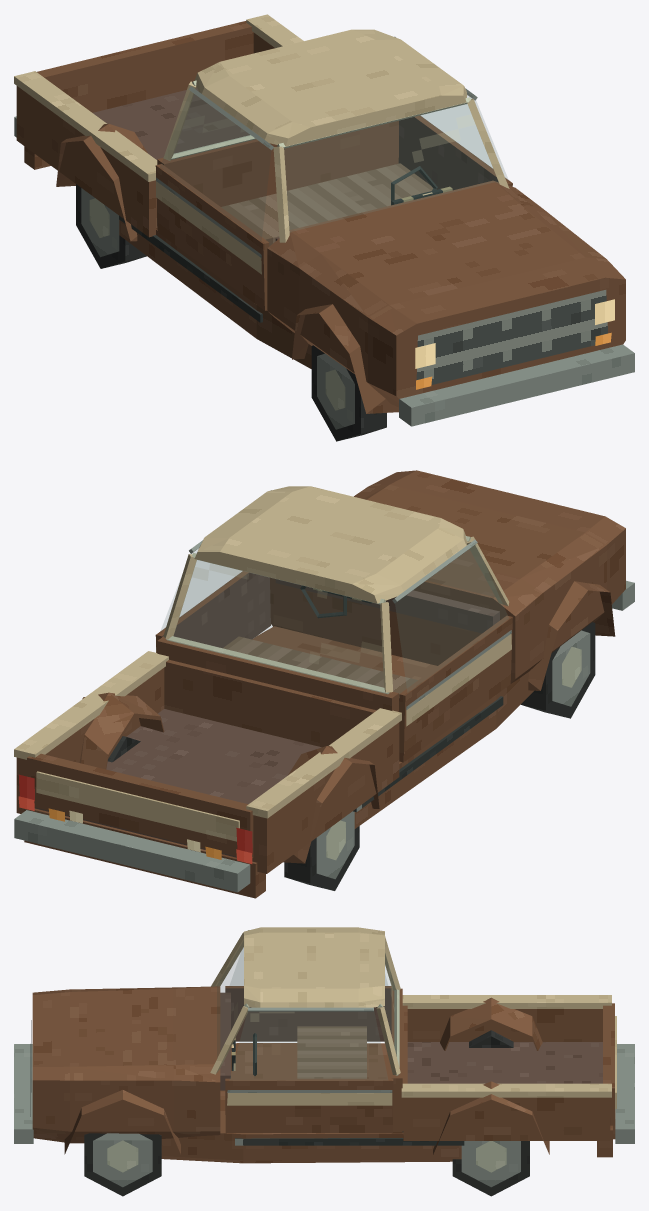
The model's file is tallmere-1972-mid.glb.
The picture shows the model from 3 angles, top to bottom: view 1: azimuth 30°, elevation 25°; view 2: azimuth 150°, elevation 25°; view 3: azimuth 270°, elevation 25°; orthographic projection. The views are drawn at different scales.
Parts seen in each view (by area): view 1: body, Hood opening panel, Pressed tailgate, Hinged side glass.001, Shaped hinged outer door.001, Padded inside door panel, Chrome-capped two-tone insert.002, Distance tyre.001, Distance hubcap.002, Hinged side glass, Distance hubcap.006, Distance tyre.003 (+3 smaller); view 2: body, Hood opening panel, Hinged side glass.001, Pressed tailgate, Shaped hinged outer door.001, Embossed tailgate stripe, Padded inside door panel, Chrome-capped two-tone insert.002, Distance tyre.001, Distance hubcap.002, Distance tyre.003, Distance hubcap.006 (+4 smaller); view 3: body, Hood opening panel, Hinged side glass, Shaped hinged outer door, Padded inside door panel.001, Chrome-capped two-tone insert, Distance hubcap, Distance hubcap.004, Distance tyre, Pressed tailgate, Distance tyre.002, Distance hubcap.001 (+5 smaller).
Part boxes in pixels (box(x1,y1,x2,y2)): body: box(14, 14, 634, 426); Hood opening panel: box(290, 180, 604, 323); Pressed tailgate: box(37, 21, 253, 112); Hinged side glass.001: box(160, 91, 270, 240); Shaped hinged outer door.001: box(155, 165, 264, 310); Padded inside door panel: box(398, 117, 498, 190); Chrome-capped two-tone insert.002: box(156, 181, 261, 274); Distance tyre.001: box(311, 345, 386, 441); Distance hubcap.002: box(317, 353, 354, 429); Hinged side glass: box(421, 95, 508, 180); Distance hubcap.006: box(81, 188, 119, 257); Distance tyre.003: box(76, 184, 146, 268); body: box(14, 470, 634, 898); Hood opening panel: box(367, 470, 604, 598); Hinged side glass.001: box(395, 545, 508, 691); Pressed tailgate: box(27, 753, 253, 857); Shaped hinged outer door.001: box(403, 617, 512, 761); Embossed tailgate stripe: box(36, 771, 239, 841); Padded inside door panel: box(162, 572, 270, 648); Chrome-capped two-tone insert.002: box(406, 634, 511, 726); Distance tyre.001: box(521, 622, 595, 718); Distance hubcap.002: box(552, 630, 590, 706); Distance tyre.003: box(284, 826, 359, 890); Distance hubcap.006: box(316, 811, 354, 879); body: box(14, 927, 634, 1163); Hood opening panel: box(32, 986, 220, 1066); Hinged side glass: box(230, 1012, 387, 1079); Shaped hinged outer door: box(225, 1081, 393, 1132); Padded inside door panel.001: box(225, 988, 391, 1041); Chrome-capped two-tone insert: box(227, 1093, 392, 1105); Distance hubcap: box(93, 1133, 152, 1187); Distance hubcap.004: box(461, 1141, 520, 1187); Distance tyre: box(84, 1133, 161, 1196); Pressed tailgate: box(603, 1003, 614, 1125); Distance tyre.002: box(452, 1141, 529, 1196); Distance hubcap.001: box(107, 1140, 138, 1172).
Size of the model in its own units: 2.13 by 1.85 by 5.44.
Materials: 6 (6 with a texture image).
